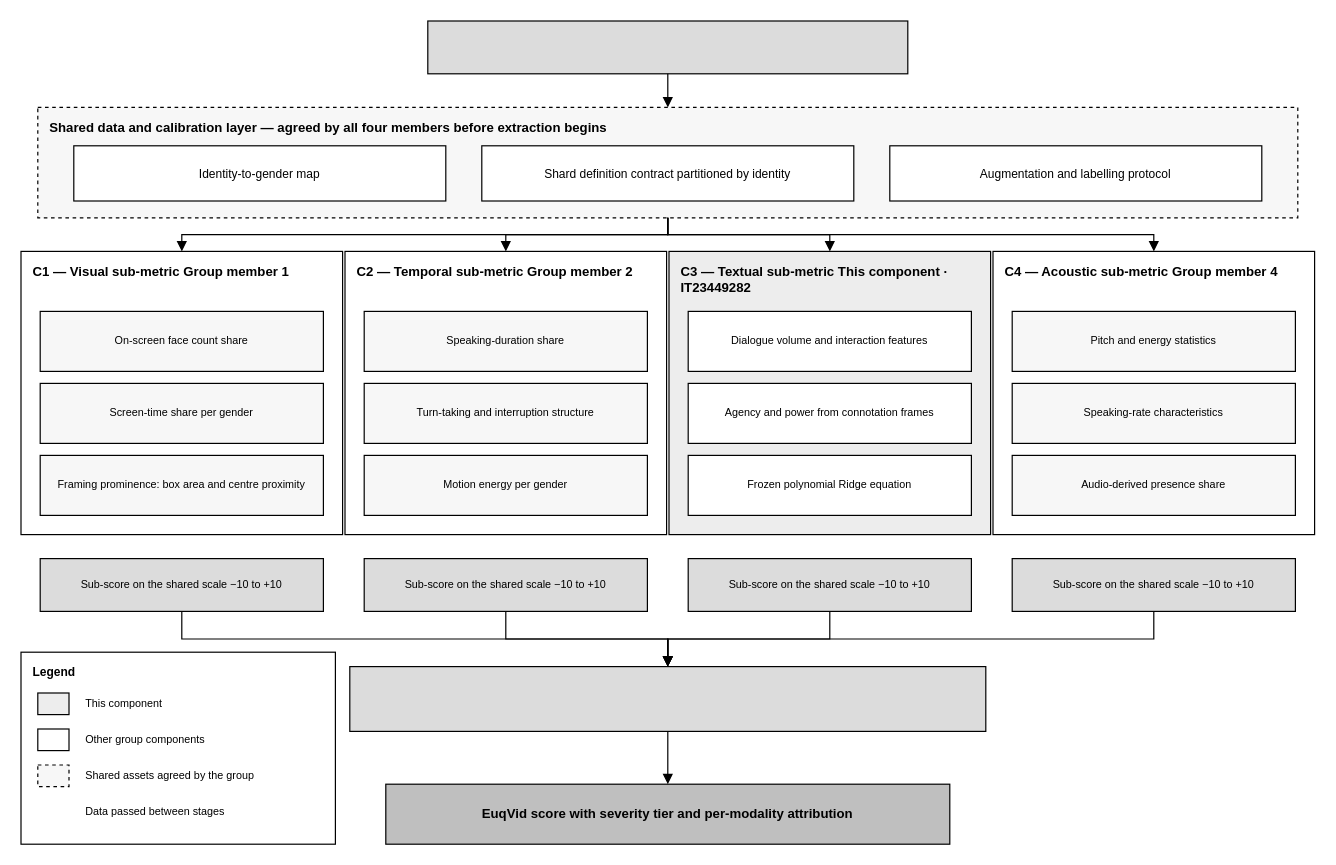
Image size: 1336x865. Some labels were removed from this diagram. Here are the shapes that lost their labels. From the top down, the centre of each, then its label:
the point at 667,47: Video dataset under audit frames, audio track and distributed annotation files
the point at 667,698: Fusion stage combines the four sub-scores, each already on the shared scale
